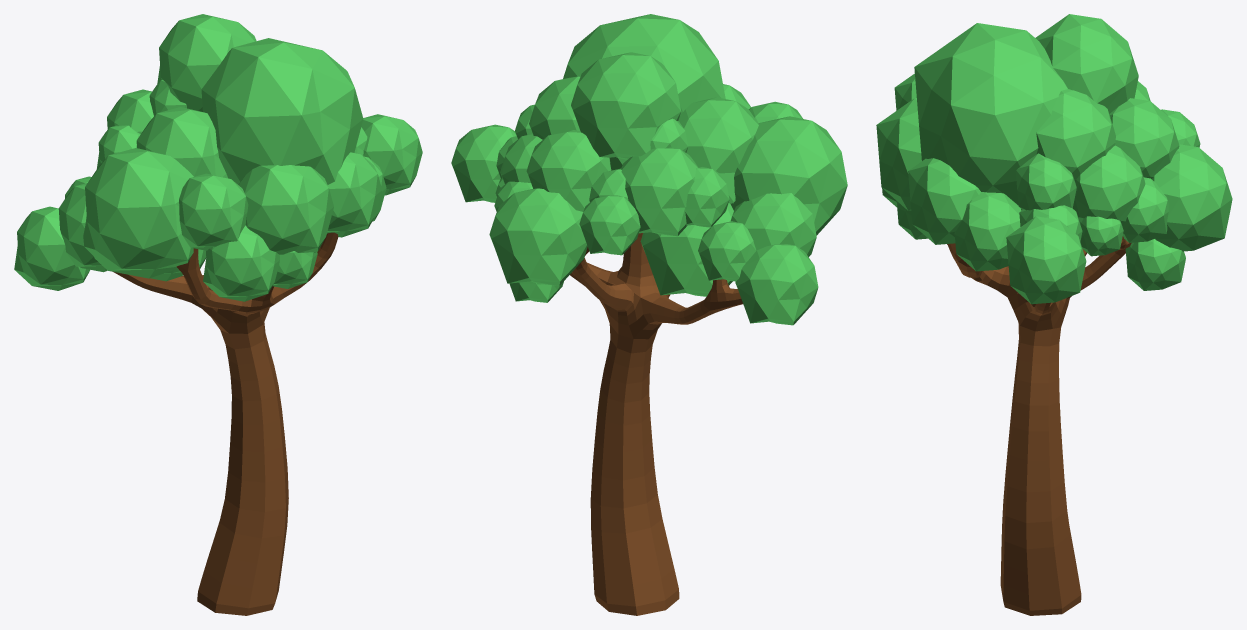
File: LowpolyTrees05.fbx
3 views of the same model, side by side, from view 1: azimuth 30°, elevation 25°; view 2: azimuth 150°, elevation 25°; view 3: azimuth 270°, elevation 25° (orthographic).
Visible parts, largest first — view 1: Icosphere.004, Plane.005; view 2: Icosphere.004, Plane.005; view 3: Icosphere.004, Plane.005.
Boxes of the visible parts, x1=… form: Icosphere.004: x1=14, y1=14, x2=422, y2=301; Plane.005: x1=113, y1=232, x2=338, y2=615; Icosphere.004: x1=451, y1=14, x2=847, y2=325; Plane.005: x1=570, y1=233, x2=742, y2=615; Icosphere.004: x1=876, y1=14, x2=1232, y2=304; Plane.005: x1=947, y1=236, x2=1131, y2=615.
Size of the model in its own units: 419 by 602 by 340.
